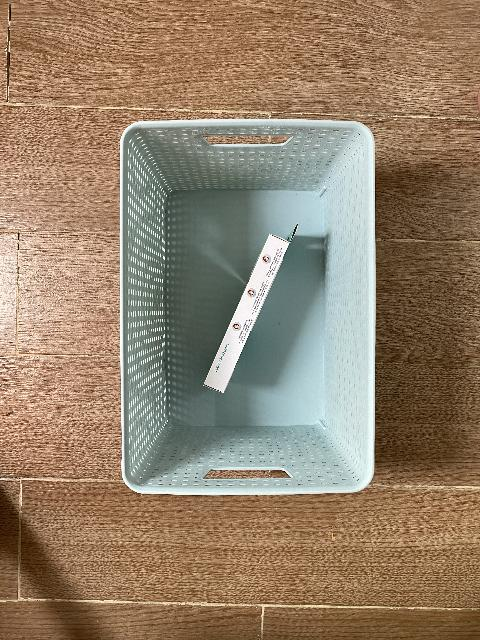4D_medical_face-mask: (203, 224, 298, 394)
cart: (118, 119, 377, 498)
